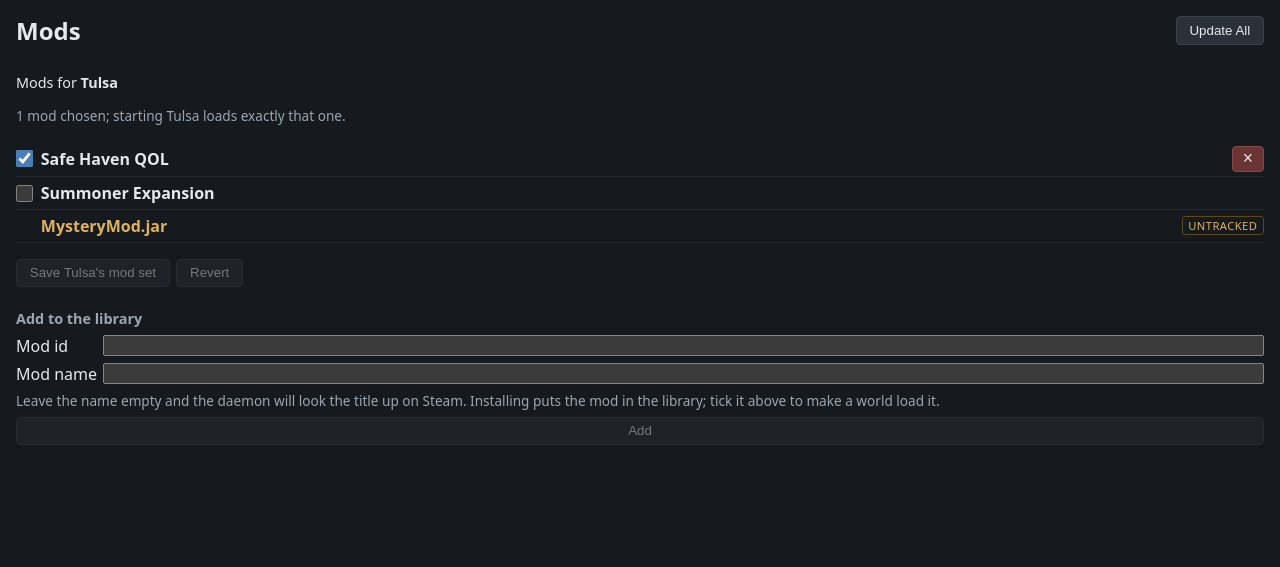
Test case: ModsPanel changing a set › drops that refusal the moment the ticks change, since it described the old ones
Click the checkbox labelled "Summoner Expansion" at point(24, 193), box [16, 185, 33, 202]
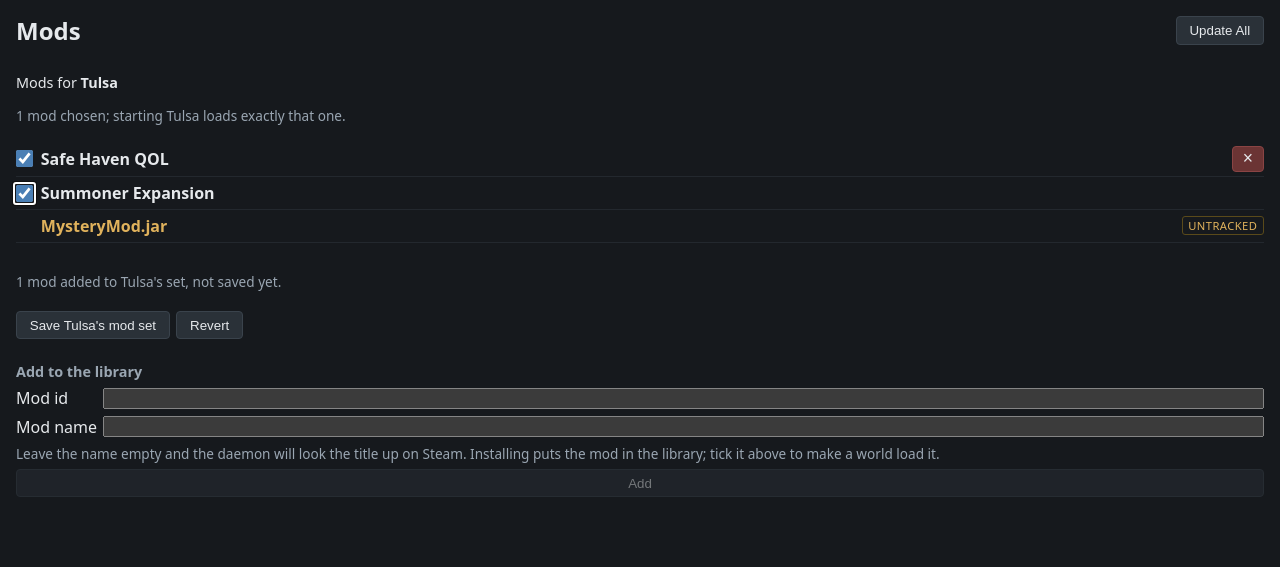
Click the button "Save Tulsa's mod set" at point(93, 325), box [16, 311, 170, 339]
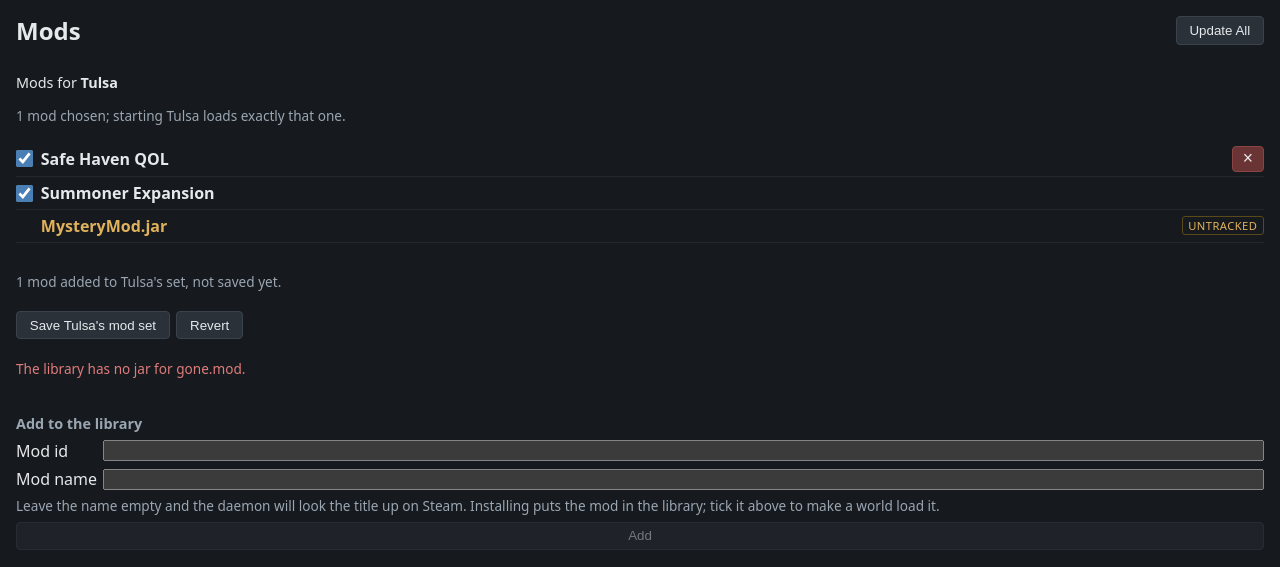
Check: the text "The library has no jar for gone.mod." is shown, box [16, 359, 245, 378]
Click the checkbox labelled "Summoner Expansion" at point(24, 193), box [16, 185, 33, 202]
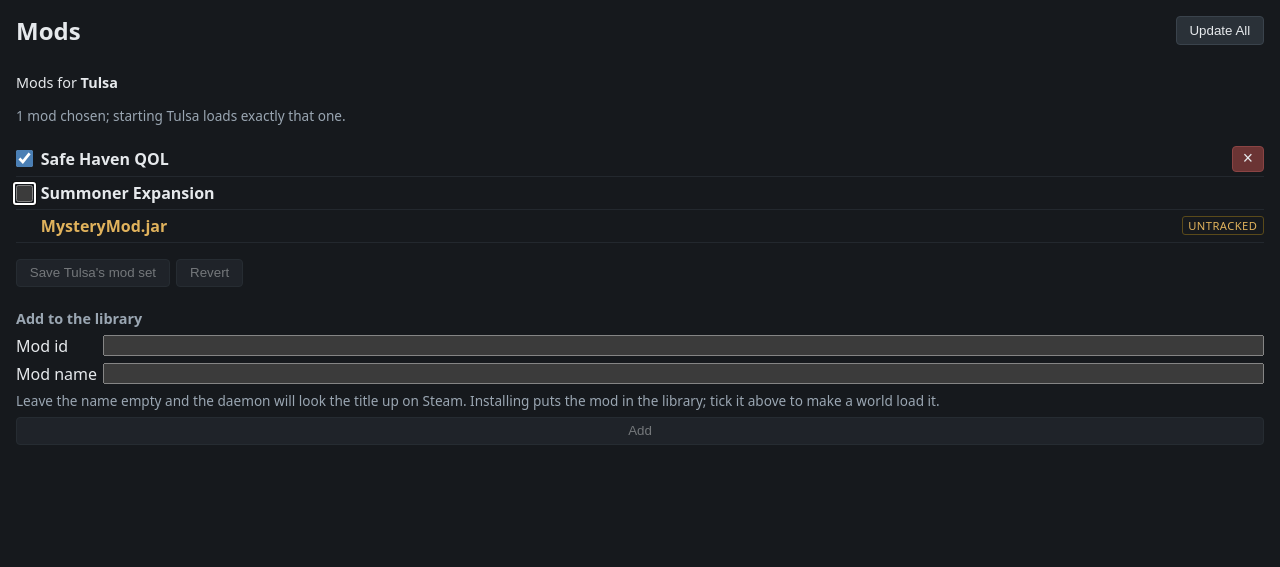
Check: the text "The library has no jar for gone.mod." is gone
